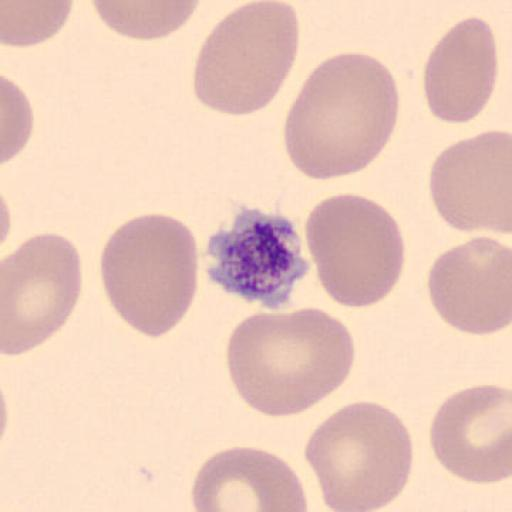Platelet: (202, 198, 326, 318)
RBC: (282, 50, 400, 180), (225, 307, 357, 419), (98, 211, 199, 340), (302, 399, 416, 511), (192, 0, 300, 117), (303, 192, 405, 309), (0, 229, 82, 358), (425, 234, 511, 340), (426, 128, 510, 236), (426, 380, 510, 486), (421, 14, 499, 124), (189, 444, 307, 511), (91, 0, 202, 42), (0, 0, 74, 54), (0, 70, 36, 166), (0, 174, 30, 234)
